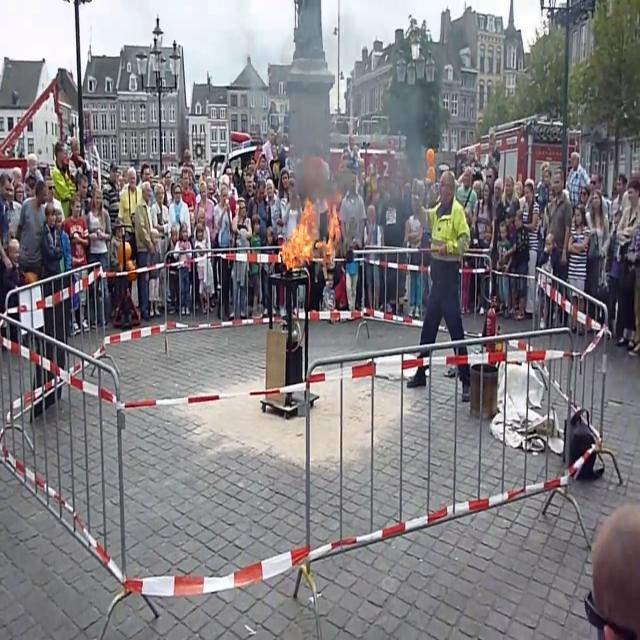Fire: (278, 196, 319, 268)
Smoke: (371, 80, 435, 229), (290, 86, 346, 208)
